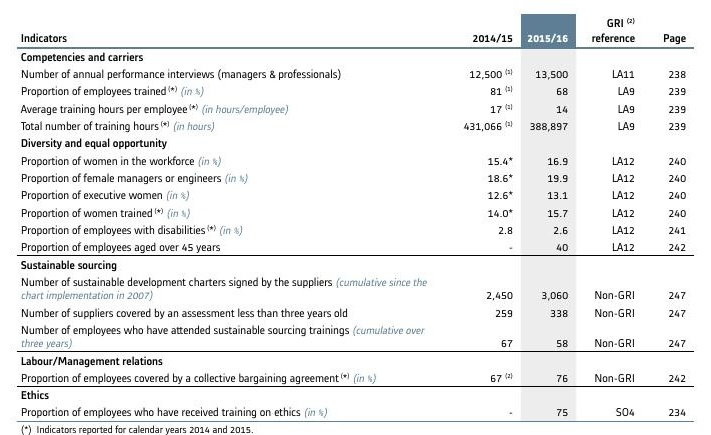table: (0, 0, 711, 435)
